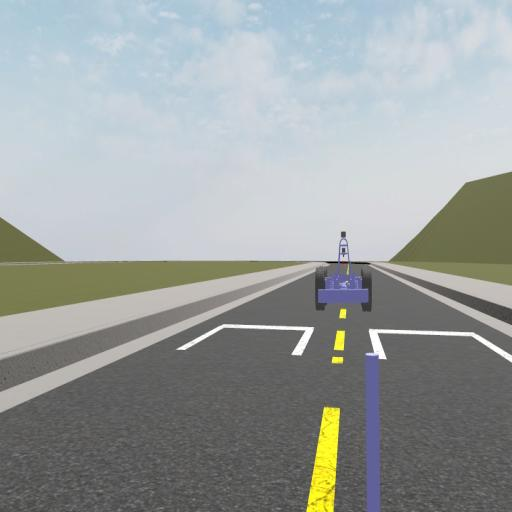ERP-42: (314, 231, 372, 310)
